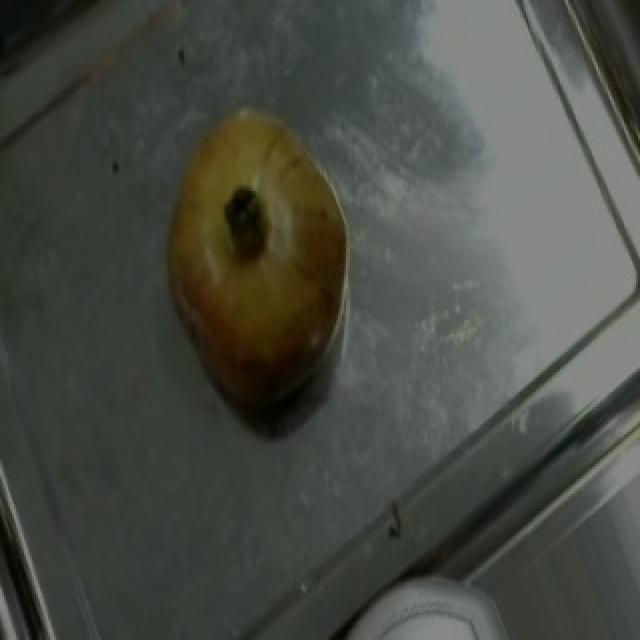fruit: (134, 74, 384, 380)
